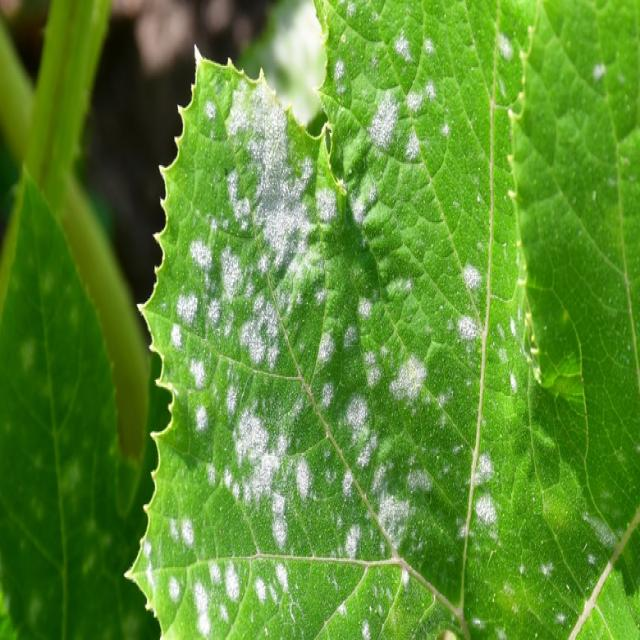Powdery Mildew: (123, 2, 638, 637)
